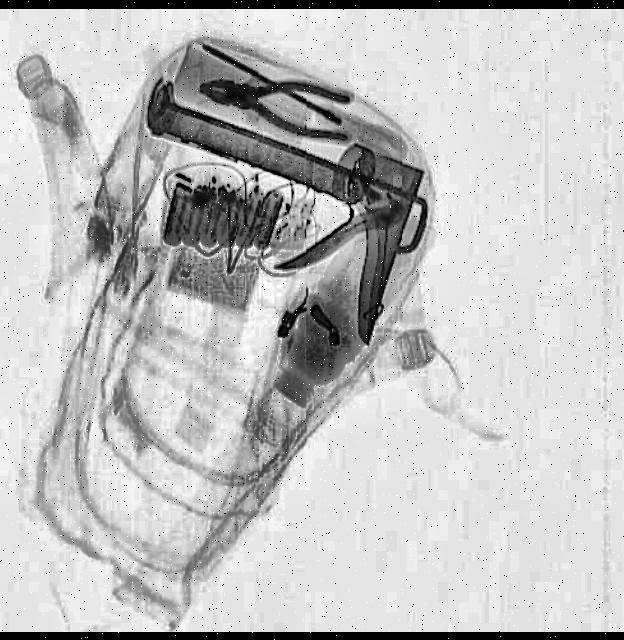Knife: (106, 77, 425, 346)
Pliers: (197, 61, 359, 145)
